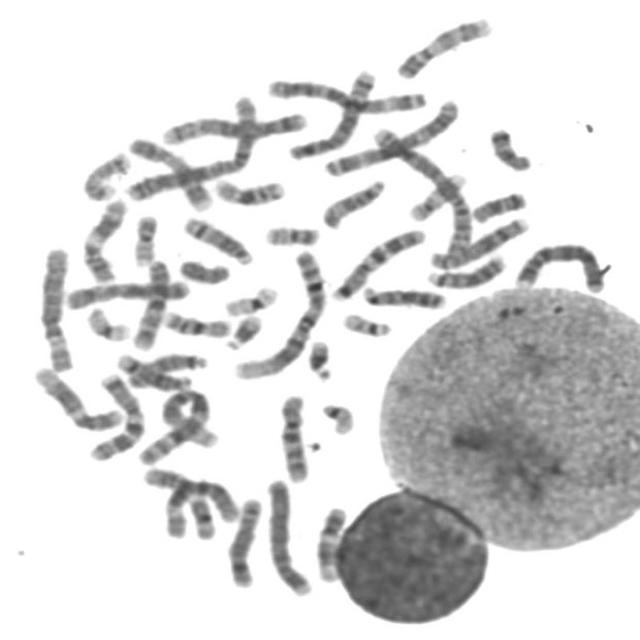A1: (227, 243, 330, 382), (131, 382, 218, 468)
A2: (121, 88, 264, 204), (368, 119, 478, 255)
A3: (318, 92, 462, 178), (261, 71, 431, 115)
B4: (259, 471, 316, 598), (508, 236, 608, 294)
B5: (282, 62, 380, 162), (155, 104, 311, 146)
C10: (126, 252, 174, 352), (271, 386, 314, 484)
C11: (136, 461, 220, 542), (74, 192, 130, 285)
C12: (27, 359, 126, 433), (309, 500, 350, 583)
C6: (33, 239, 77, 374), (157, 473, 241, 540)
C7: (325, 221, 430, 302), (82, 367, 146, 462)
C8: (422, 210, 532, 270), (221, 490, 265, 589)
C9: (390, 9, 497, 80), (122, 130, 214, 212)
D13: (421, 247, 509, 290), (355, 278, 449, 310)
D14: (177, 209, 256, 266), (113, 346, 200, 392)
D15: (315, 172, 389, 230), (119, 346, 208, 390)
E16: (207, 171, 290, 207), (156, 303, 233, 339)
E17: (402, 166, 470, 222), (75, 146, 134, 202)
E18: (482, 120, 536, 173), (466, 184, 530, 224)
F19: (218, 278, 282, 318), (81, 300, 134, 344)
F20: (125, 207, 161, 268), (257, 218, 323, 247)
G21: (219, 307, 265, 351), (300, 333, 336, 382)
G22: (336, 306, 394, 338), (315, 396, 359, 436)
X: (58, 273, 195, 312)
Y: (172, 252, 234, 286)
